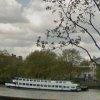Boat: (5, 67, 90, 99)
